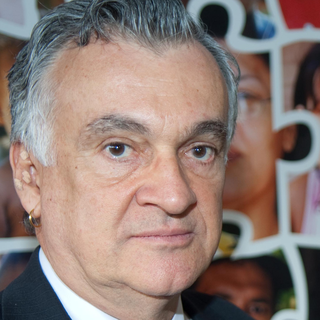eye: (96, 136, 140, 163), (178, 138, 221, 162)
